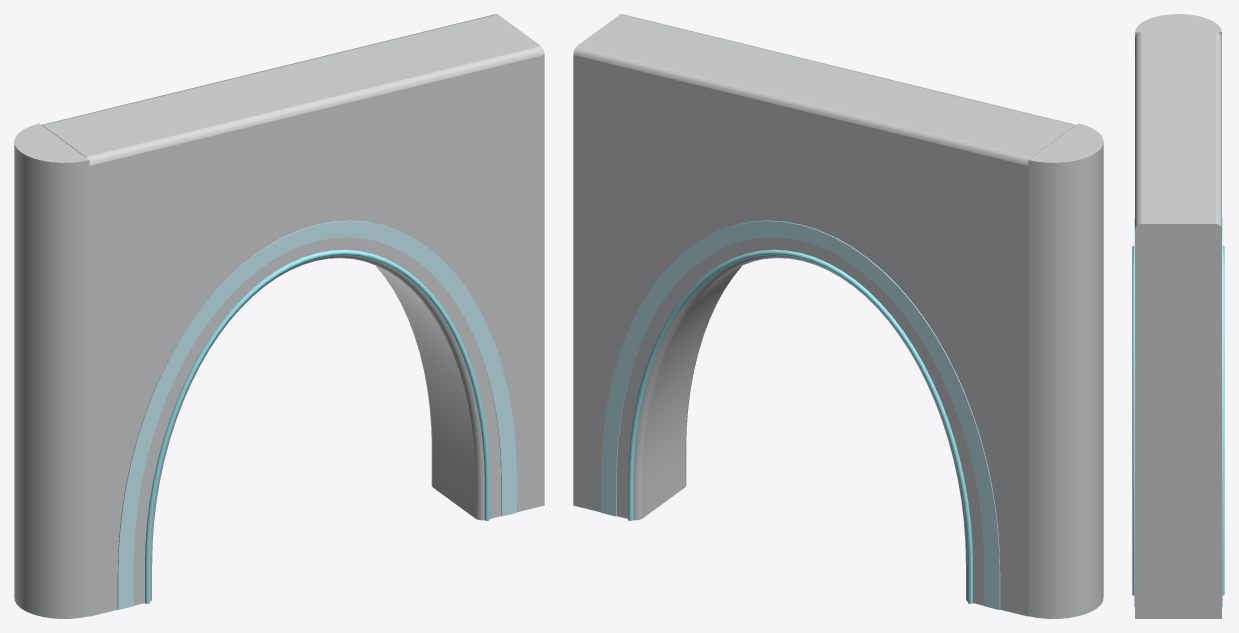
The model's file is Arch_D01_PearlEllipse.fbx.
3 views of the same model, side by side, from view 1: azimuth 30°, elevation 25°; view 2: azimuth 150°, elevation 25°; view 3: azimuth 270°, elevation 25° (orthographic). The views are drawn at different scales.
Parts seen in each view (by area): view 1: Arch_D01_PearlEllipse; view 2: Arch_D01_PearlEllipse; view 3: Arch_D01_PearlEllipse.
Part boxes in pixels (x1,y1,x2,y2): Arch_D01_PearlEllipse: (14,14,544,618); Arch_D01_PearlEllipse: (573,14,1103,618); Arch_D01_PearlEllipse: (1132,14,1224,618).
Bounding box in the file's own units: 2.29 × 2.01 × 0.4249.
